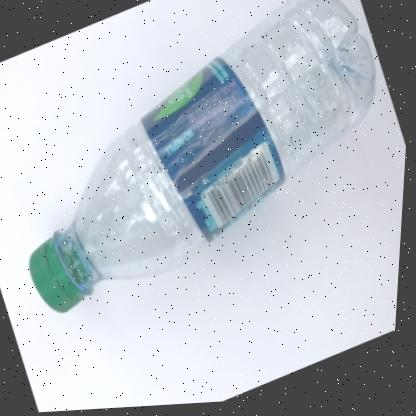Plastic: (31, 0, 376, 313)
